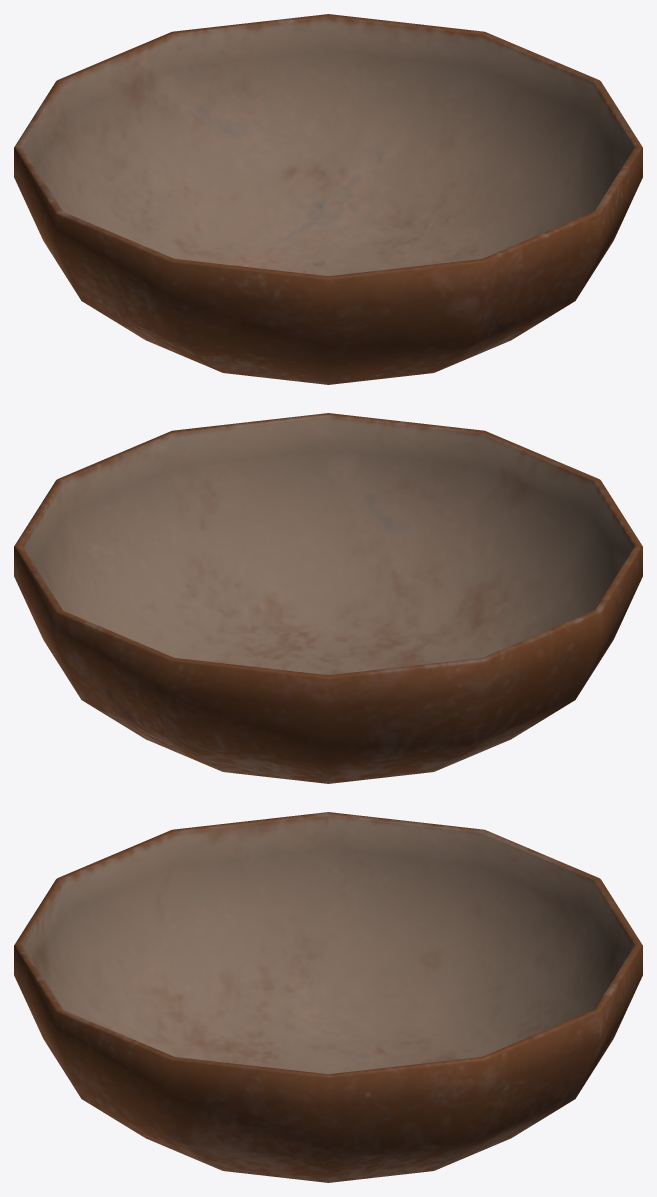
File: Shelf_props_small_bowl.fbx
3 views of the same model, one above another, from view 1: azimuth 30°, elevation 25°; view 2: azimuth 150°, elevation 25°; view 3: azimuth 270°, elevation 25° (orthographic).
Parts seen in each view (by area): view 1: Cylinder.004; view 2: Cylinder.004; view 3: Cylinder.004.
Part boxes in pixels (bbox=[...]): Cylinder.004: bbox=[14, 14, 642, 384]; Cylinder.004: bbox=[14, 413, 642, 783]; Cylinder.004: bbox=[14, 812, 642, 1182].
Bounding box in the file's own units: 26.12 × 8.5 × 26.12.
